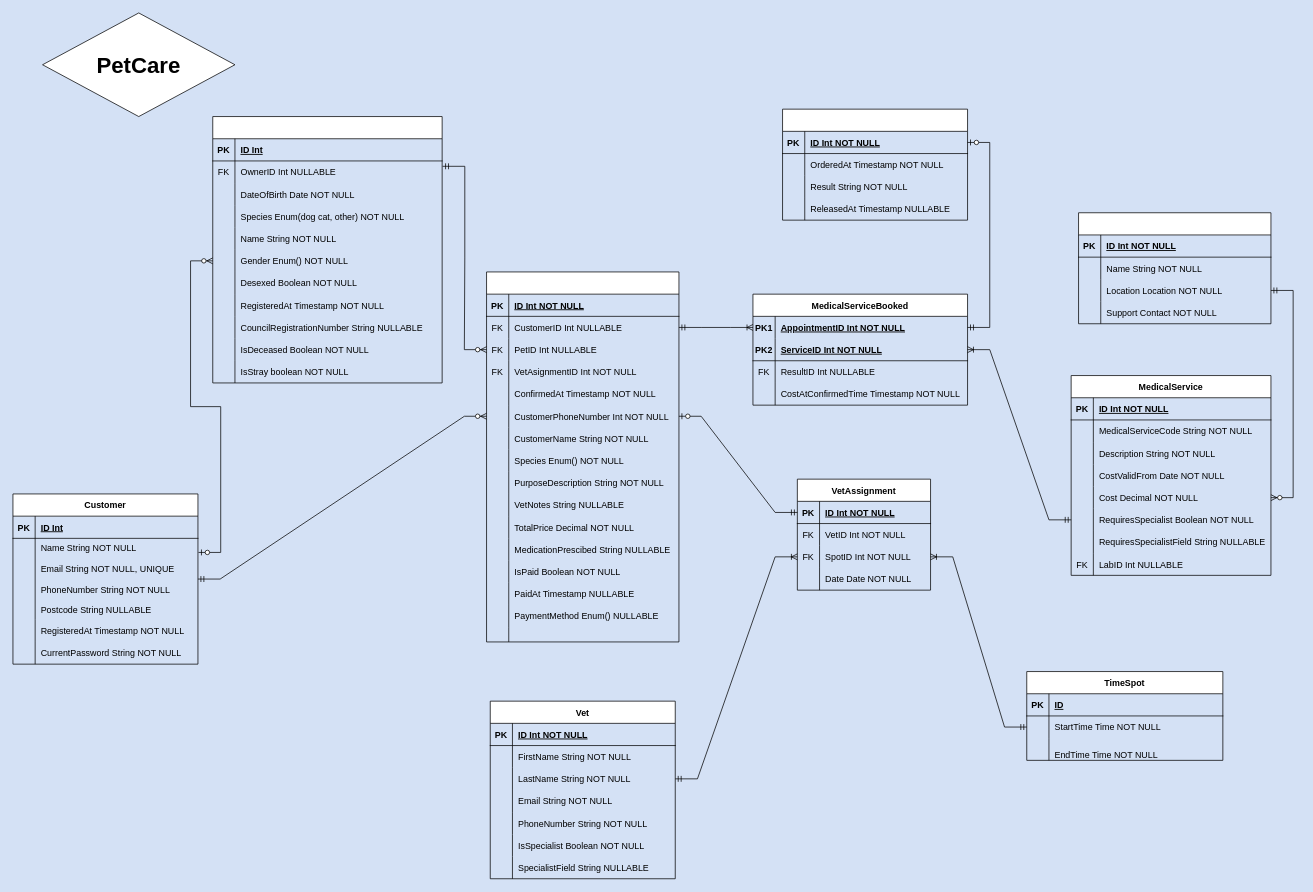
This 1313x892 diagram has some shape labels left out. The box of each missing label's shape, as (x1, y1, x2, y2) in pixels:
Appointment: (486, 271, 679, 642)
Lab: (1078, 212, 1271, 324)
LabTestResult: (782, 108, 968, 220)
Pet: (212, 116, 442, 383)
